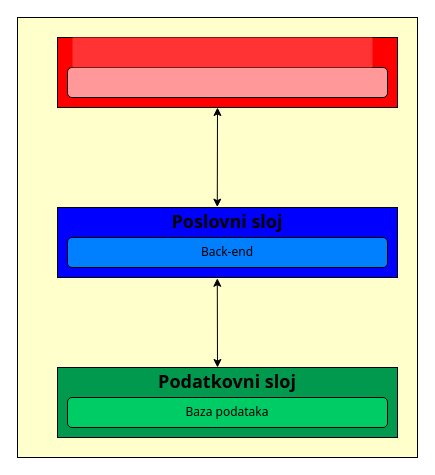
This 435x475 diagram has some shape labels left out. The centre of each missing label's shape, as x and y in pixels:
"Front-end" goes at point 227,82.
"Prezentacijski sloj" goes at point 222,52.
